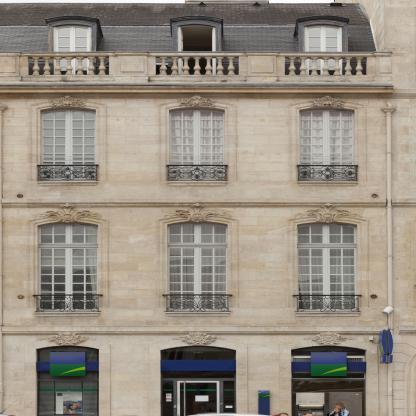Balcony: (1, 51, 393, 86)
Blind: (167, 221, 228, 312), (297, 221, 358, 312), (41, 225, 97, 309), (299, 106, 355, 181), (169, 106, 225, 181)
Building Outline: (0, 0, 416, 416)
Deco: (292, 352, 366, 376), (37, 352, 99, 376), (293, 203, 363, 223), (34, 203, 102, 223), (162, 203, 233, 222), (37, 331, 97, 346), (301, 331, 355, 346), (171, 331, 225, 346), (177, 93, 217, 108), (48, 93, 87, 108), (308, 93, 346, 108)
Door: (178, 24, 216, 75), (177, 381, 219, 416)
Facade: (3, 86, 415, 415)
Floor: (1, 207, 415, 333), (1, 92, 416, 207)
Floor Slab: (1, 200, 415, 207), (1, 86, 415, 92), (1, 327, 415, 333)
Ground Floor: (1, 333, 415, 416)
Roof: (0, 3, 379, 65)
Shop: (36, 345, 99, 416), (292, 381, 366, 416), (160, 345, 236, 379), (291, 345, 367, 379), (162, 381, 173, 416), (223, 381, 234, 416)
Sill: (34, 312, 100, 317), (295, 312, 361, 317), (165, 312, 230, 317), (297, 181, 359, 186), (37, 181, 98, 186), (167, 181, 228, 186)
Top Floor: (1, 4, 370, 92)
Window: (297, 221, 358, 312), (37, 221, 98, 312), (167, 221, 228, 312), (299, 106, 355, 181), (169, 106, 225, 181), (40, 106, 96, 181), (304, 24, 343, 75), (53, 24, 91, 75)
dont: (295, 404, 327, 416), (186, 413, 289, 416), (328, 402, 350, 416)
